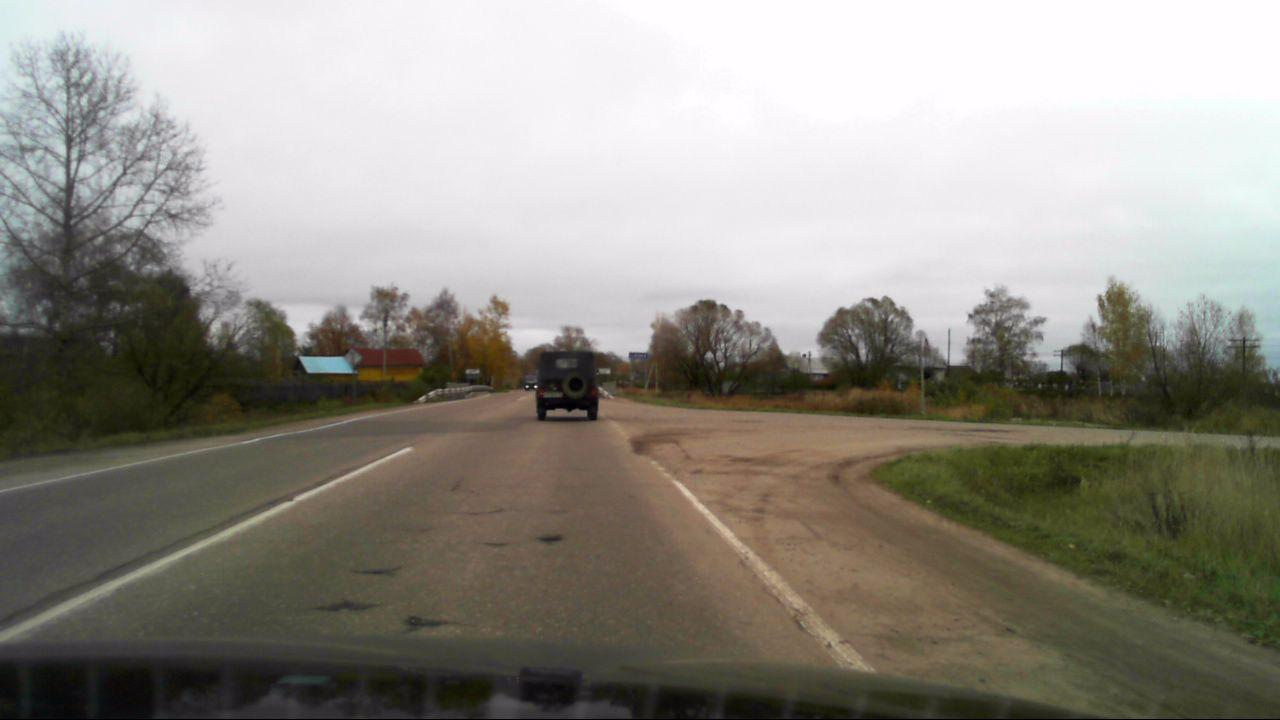pothole: (403, 614, 456, 632), (316, 601, 377, 613), (354, 566, 401, 578), (538, 535, 563, 543)
